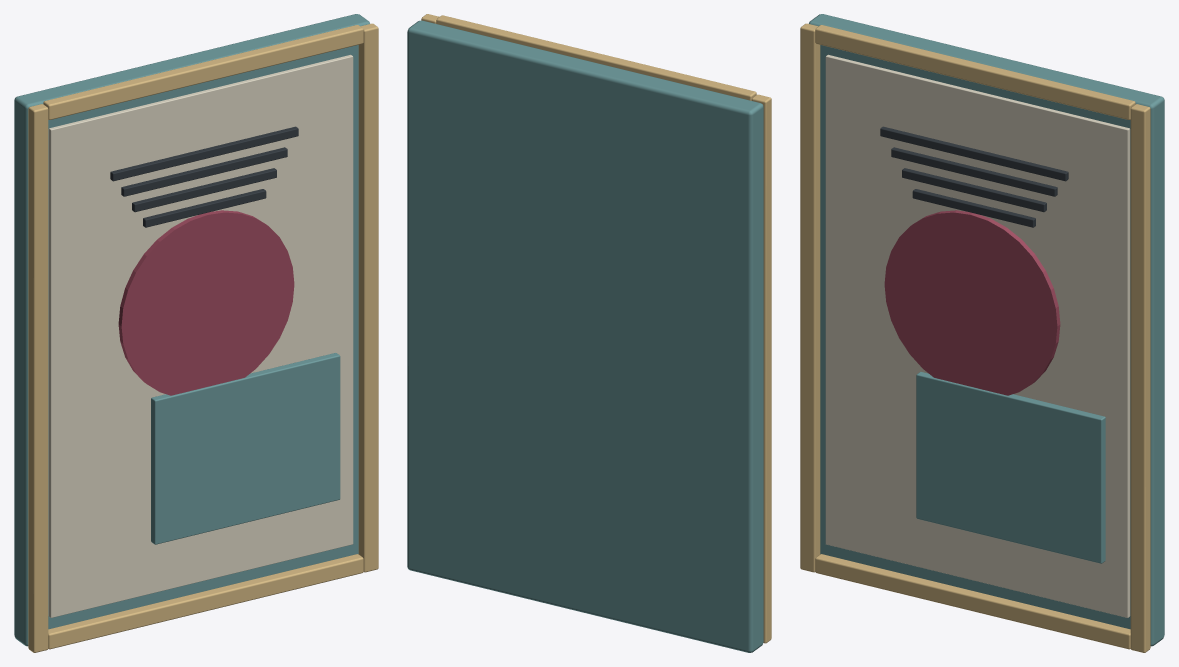
File: abandoned-cinema-and-projection-booth-abandoned-cinema-6d1d2b46__29694.glb
The picture shows the model from 3 angles, left to right: view 1: azimuth 30°, elevation 25°; view 2: azimuth 150°, elevation 25°; view 3: azimuth 330°, elevation 25°; orthographic projection.
Visible parts, largest first — view 1: abandoned-cinema-and-projection-booth-framed-poster-case; view 2: abandoned-cinema-and-projection-booth-framed-poster-case; view 3: abandoned-cinema-and-projection-booth-framed-poster-case.
Part boxes in pixels (x1,y1,x2,y2): abandoned-cinema-and-projection-booth-framed-poster-case: [14, 14, 378, 652]; abandoned-cinema-and-projection-booth-framed-poster-case: [407, 14, 771, 652]; abandoned-cinema-and-projection-booth-framed-poster-case: [800, 14, 1164, 652].
Bounding box in the file's own units: 0.8 × 1.21 × 0.0935.
